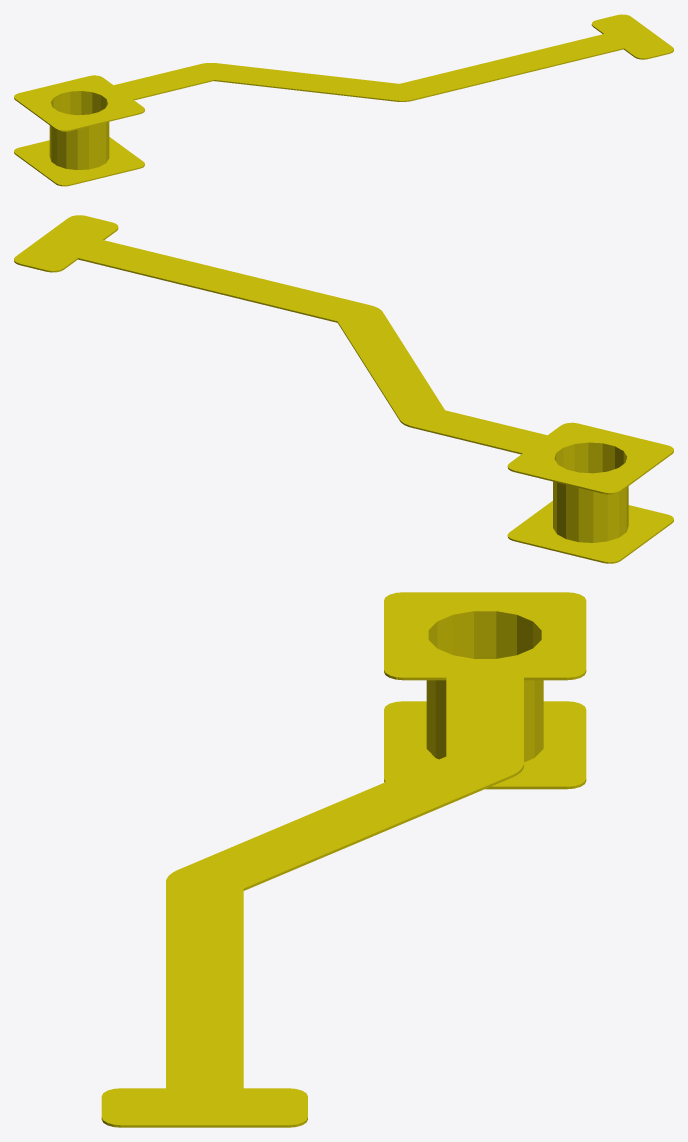
File: vdiv.gltf
3 renders of one model, top to bottom at view 1: azimuth 30°, elevation 25°; view 2: azimuth 150°, elevation 25°; view 3: azimuth 270°, elevation 25°, orthographic. The views are drawn at different scales.
Parts seen in each view (by area): view 1: vdiv_copper; view 2: vdiv_copper; view 3: vdiv_copper.
Part boxes in pixels (x1,y1,x2,y2): vdiv_copper: [14, 14, 673, 186]; vdiv_copper: [14, 215, 673, 563]; vdiv_copper: [101, 592, 586, 1127].
Size of the model in its own units: 0.0162 by 0.00158 by 0.00622.
